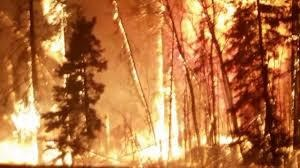fire: (146, 0, 299, 162), (37, 1, 71, 66)
